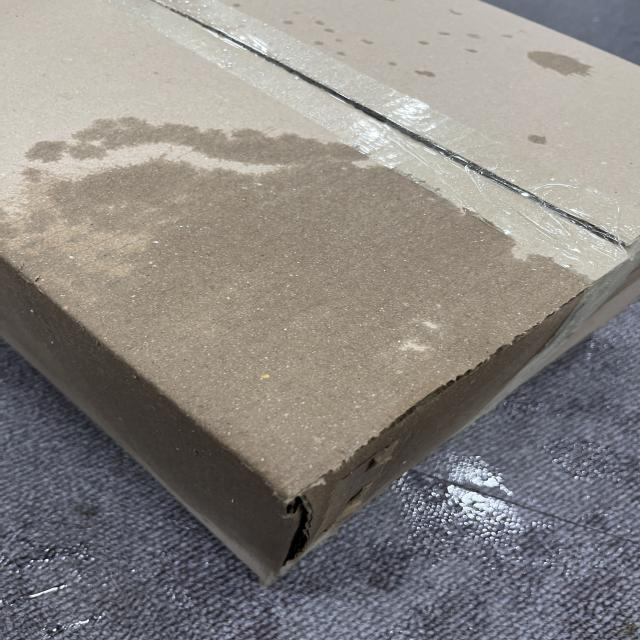wet: (0, 118, 594, 578)
